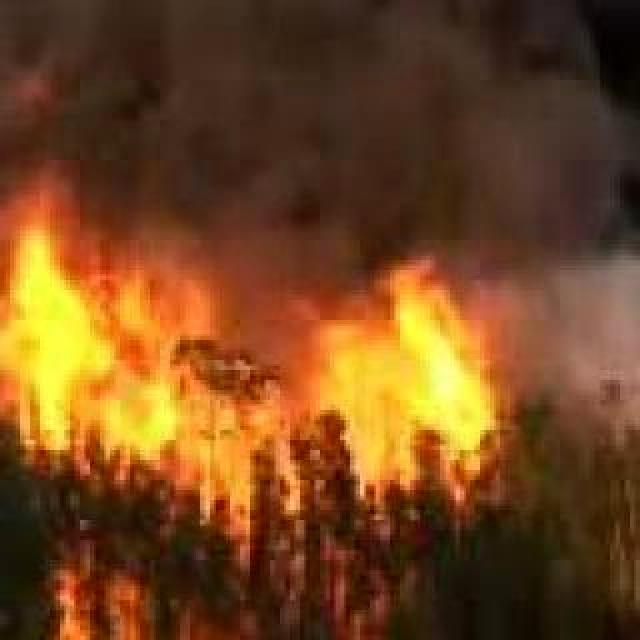fire: (0, 224, 512, 640)
